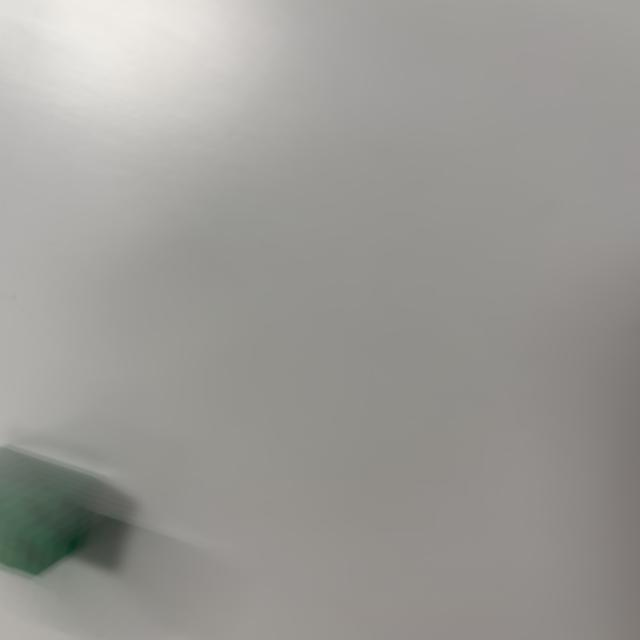C2x2x1: (2, 446, 110, 572)
